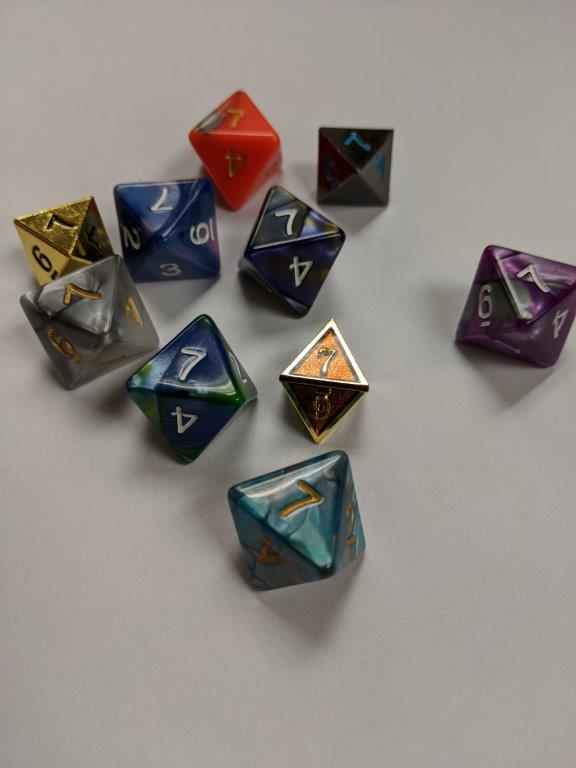d8-7: (124, 313, 259, 467), (232, 449, 366, 593), (17, 255, 159, 387), (452, 243, 576, 372), (236, 187, 345, 312), (114, 176, 226, 282), (280, 317, 369, 446), (189, 90, 282, 210), (12, 195, 114, 275), (316, 123, 393, 203)
